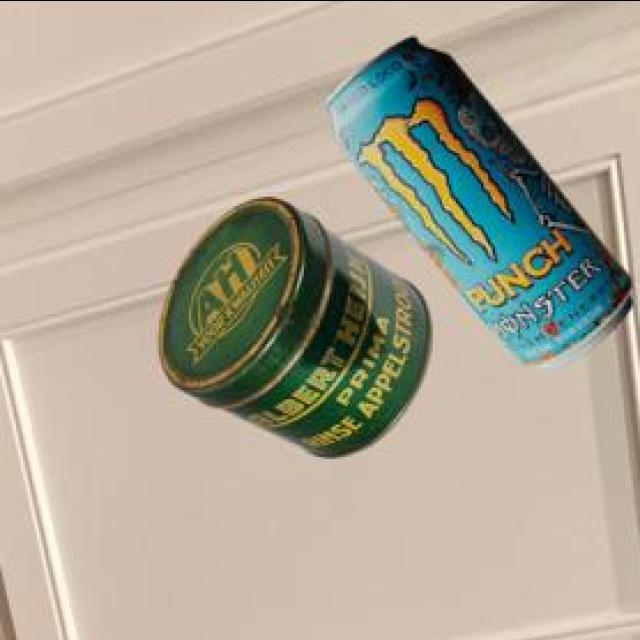logam: (328, 33, 634, 363), (162, 195, 434, 452)
